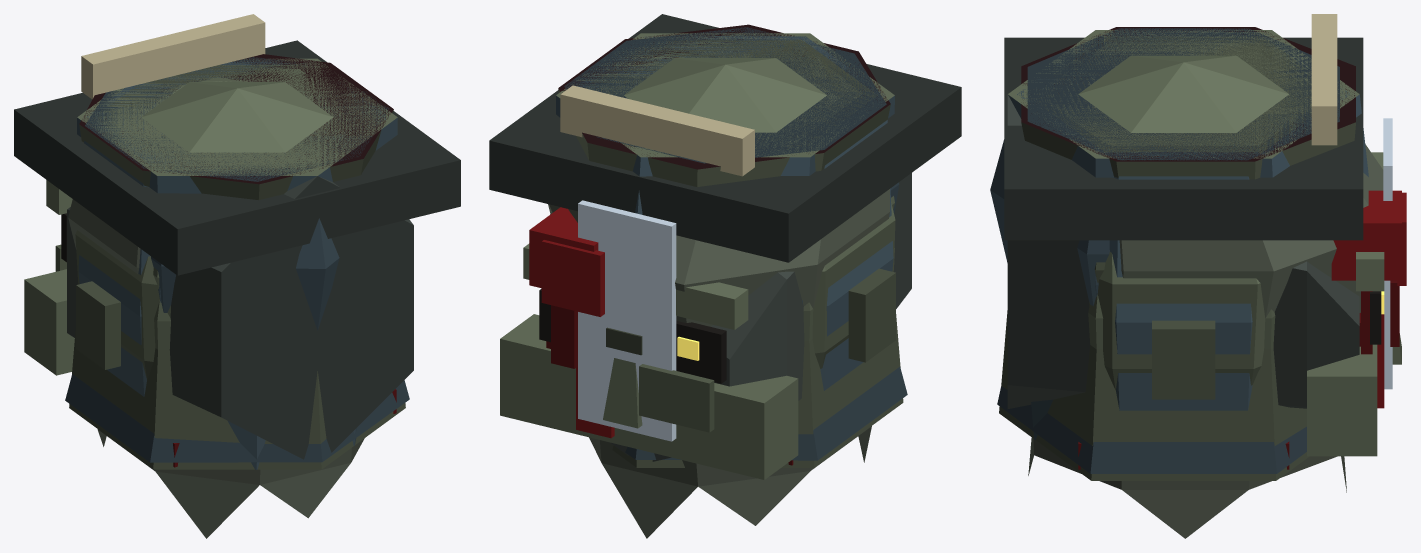
The model's file is brute.glb.
3 views of the same model, side by side, from view 1: azimuth 30°, elevation 25°; view 2: azimuth 150°, elevation 25°; view 3: azimuth 270°, elevation 25° (orthographic). The views are drawn at different scales.
Parts seen in each view (by area): view 1: footR, hips, headJaw, uArmR, shinR, uArmDeltR, torso, neck, head, handR, fArmR, thighR; view 2: hips, torso, handR, headJaw, head, uArmDeltR, footR, shinR, fArmR, neck, uArmR, torsoBelly (+1 smaller); view 3: hips, footR, torso, head, handR, neck, uArmDeltR, headJaw, shinR, fArmR, uArmR, torsoBelly (+1 smaller).
Part boxes in pixels (x1,y1,x2,y2): footR: (67, 176, 413, 459); hips: (14, 40, 460, 469); headJaw: (79, 14, 393, 200); uArmR: (77, 58, 397, 175); shinR: (65, 61, 409, 462); uArmDeltR: (141, 82, 333, 152); torso: (55, 77, 364, 538); neck: (69, 327, 405, 469); head: (46, 180, 170, 379); handR: (24, 68, 396, 467); fArmR: (98, 64, 376, 288); thighR: (77, 117, 397, 302); hips: (489, 14, 961, 390); torso: (541, 53, 889, 538); handR: (500, 45, 894, 479); headJaw: (558, 24, 890, 438); head: (523, 202, 895, 428); uArmDeltR: (624, 58, 826, 132); footR: (550, 173, 911, 461); shinR: (578, 36, 907, 460); fArmR: (587, 39, 894, 209); neck: (612, 314, 903, 467); uArmR: (556, 33, 894, 157); torsoBelly: (529, 207, 642, 355); hips: (1004, 28, 1363, 439); footR: (1007, 94, 1359, 408); torso: (1028, 108, 1406, 538); head: (1089, 152, 1401, 399); handR: (1039, 42, 1377, 469); neck: (999, 310, 1309, 480); uArmDeltR: (1078, 55, 1288, 132); headJaw: (1021, 14, 1384, 408); shinR: (990, 33, 1349, 473); fArmR: (1026, 36, 1360, 346); uArmR: (1008, 30, 1359, 158); torsoBelly: (1331, 190, 1401, 280).
Bounding box in the file's own units: 1.06 × 1.36 × 1.18.
